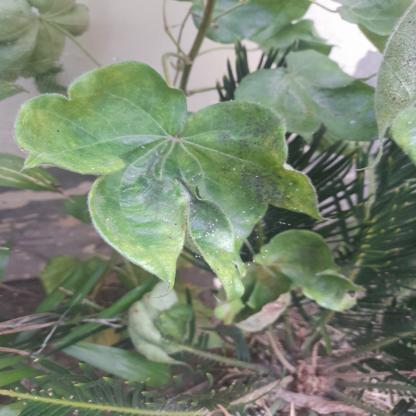curl_stage1: (19, 111, 122, 172), (98, 222, 187, 268), (79, 80, 174, 123), (95, 193, 187, 231), (201, 237, 248, 289), (249, 254, 298, 280), (306, 285, 355, 309)
curl_stage2: (1, 4, 84, 56), (131, 299, 169, 348), (393, 33, 416, 98), (378, 79, 403, 119)
healthy: (134, 138, 201, 184)
sooty: (226, 146, 302, 219), (205, 106, 289, 141), (319, 85, 371, 121)
